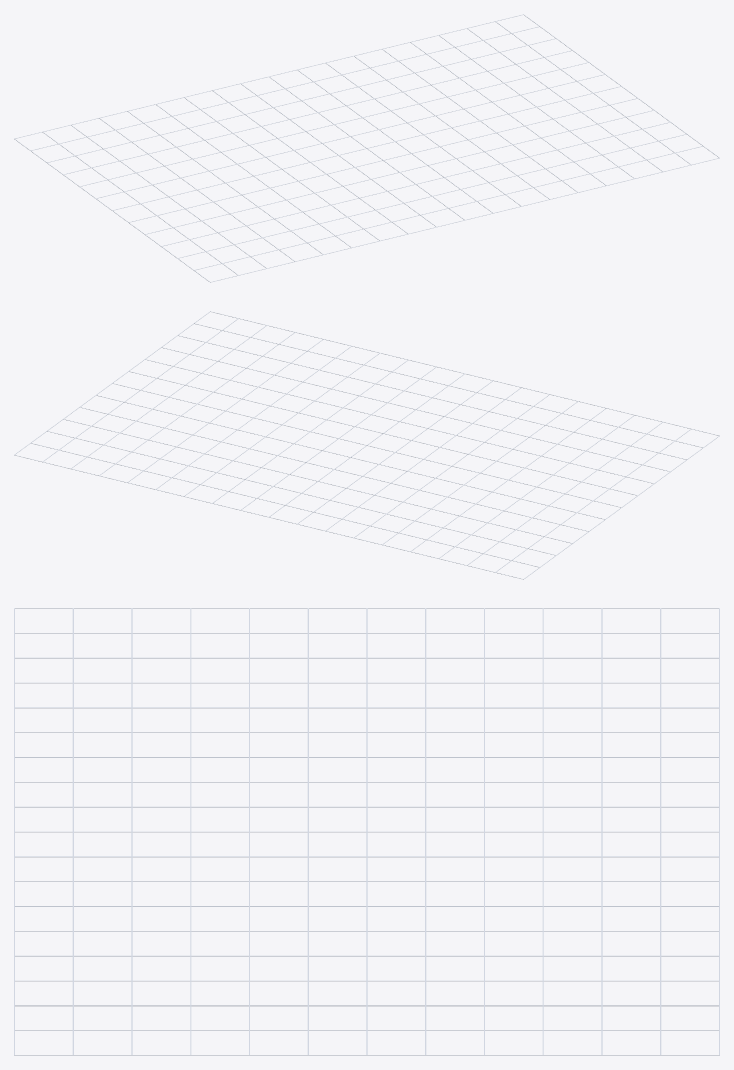
3 renders of one model, top to bottom at view 1: azimuth 30°, elevation 25°; view 2: azimuth 150°, elevation 25°; view 3: azimuth 270°, elevation 25°, orthographic. The views are drawn at different scales.
Size of the model in its own units: 137 by 0.05 by 91.59.
Materials: 1 (1 with a texture image).
